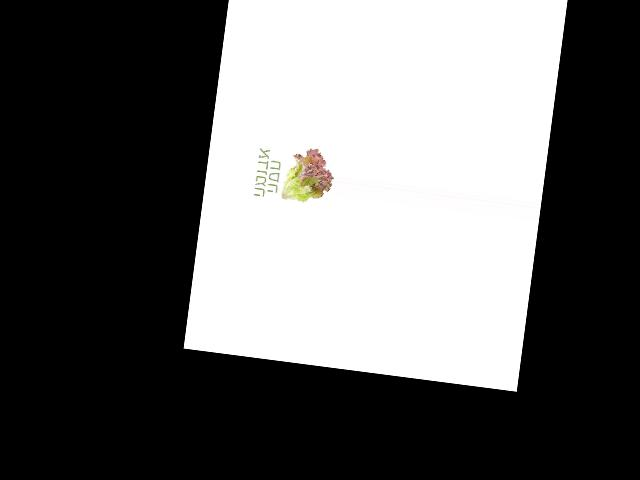lettuce: (278, 143, 337, 211)
